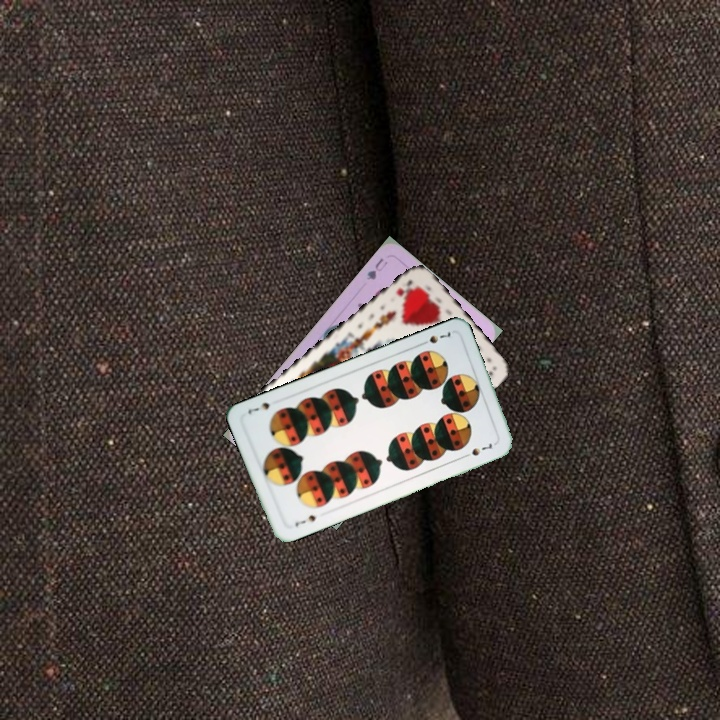GU: (363, 254, 390, 283)
HK: (392, 276, 415, 301)
S7: (416, 327, 453, 349), (291, 511, 318, 529)
